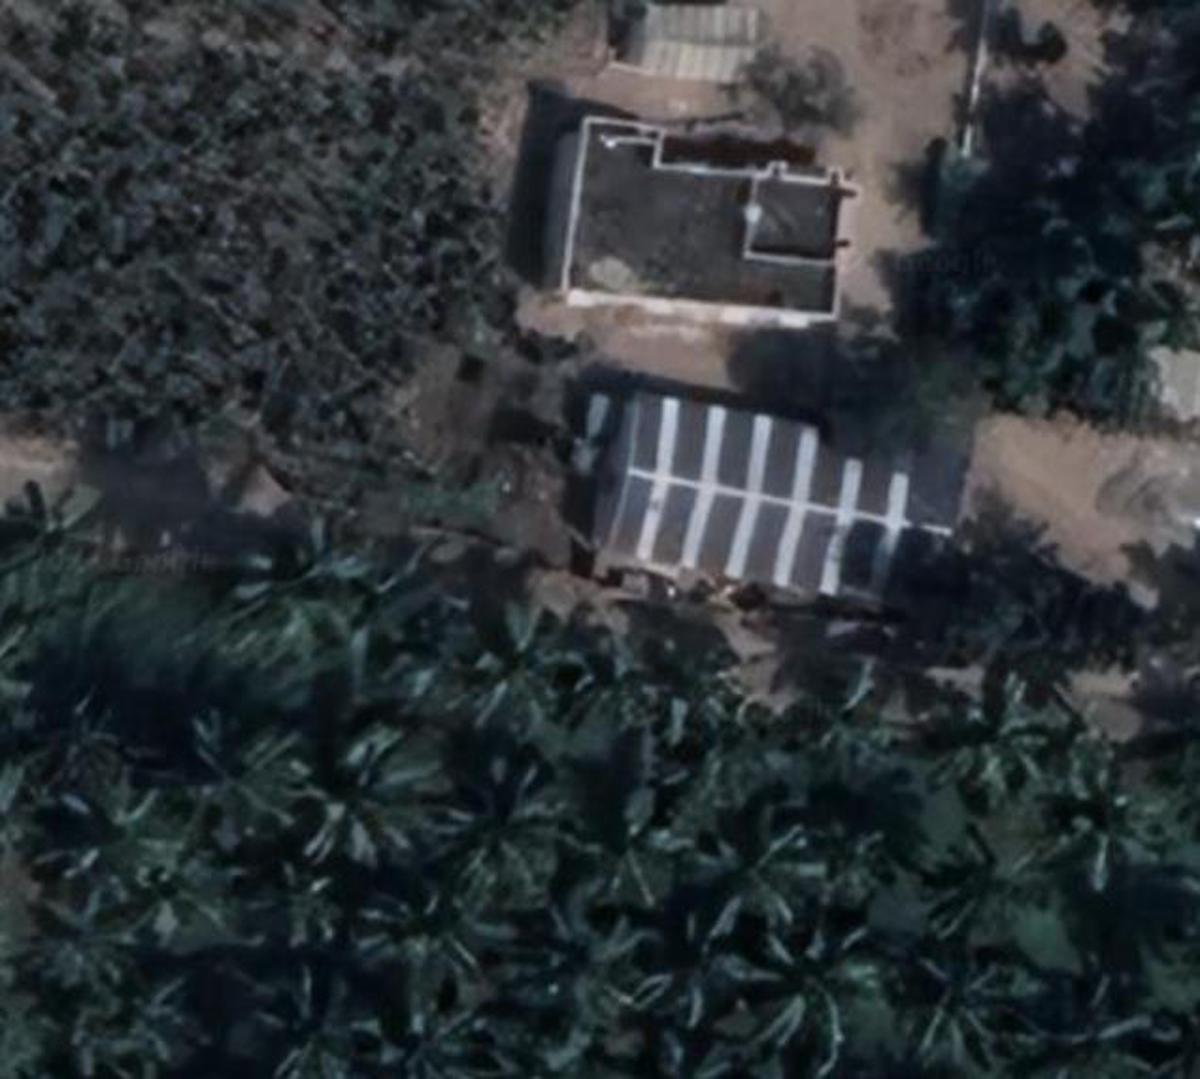coconut: (426, 741, 584, 897), (218, 520, 366, 656), (294, 726, 435, 865), (779, 656, 915, 791), (41, 775, 177, 903), (179, 707, 301, 846), (935, 664, 1062, 792), (749, 924, 879, 1048), (1039, 754, 1167, 877), (622, 909, 754, 1028), (503, 882, 624, 1009), (367, 875, 492, 997), (1022, 977, 1162, 1079), (564, 766, 673, 897), (450, 584, 550, 726), (698, 811, 826, 922), (909, 943, 1022, 1063), (0, 484, 116, 601), (90, 965, 203, 1079), (250, 971, 369, 1079), (15, 890, 135, 994), (643, 626, 749, 741), (373, 984, 496, 1079), (930, 822, 1032, 931), (247, 845, 350, 952), (552, 618, 660, 718), (45, 684, 147, 782), (386, 614, 479, 692)
